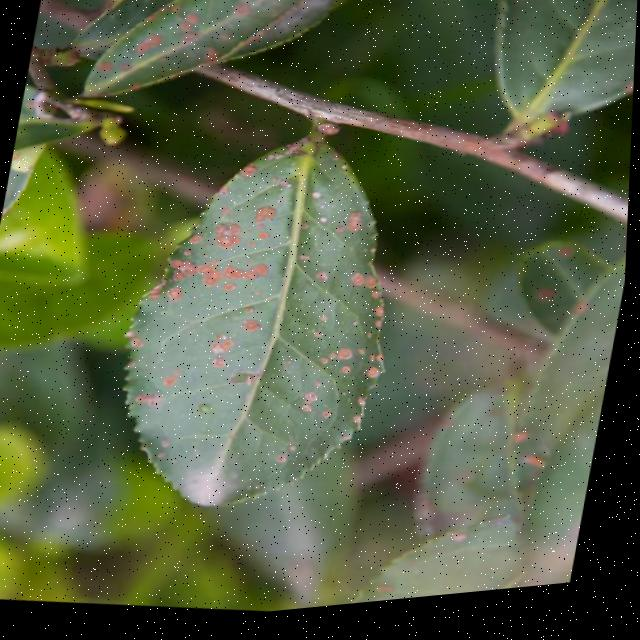Tea algae leaf spot: (91, 131, 413, 522)
